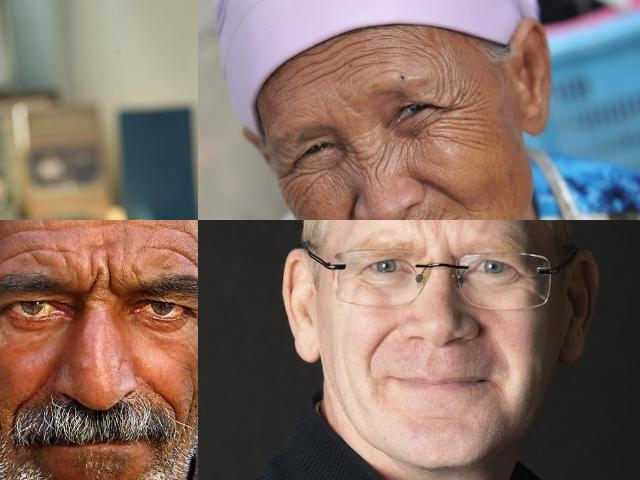bunny_line: (372, 148, 392, 188), (346, 157, 372, 187)
crows_feet: (438, 88, 469, 128), (280, 164, 304, 192), (516, 264, 538, 288), (190, 302, 198, 327)
forehead: (0, 241, 62, 266), (156, 239, 198, 270), (7, 220, 65, 239), (151, 220, 198, 243), (330, 43, 360, 77), (367, 34, 393, 66), (294, 56, 320, 78)
frown_line: (84, 263, 116, 297), (345, 138, 369, 166), (443, 233, 457, 260)
gummy_smile: (145, 382, 181, 418), (369, 321, 396, 363), (422, 176, 461, 202), (5, 394, 28, 436)
masseter: (183, 385, 198, 425), (0, 388, 4, 429)
smoker_lines: (416, 210, 449, 220)
